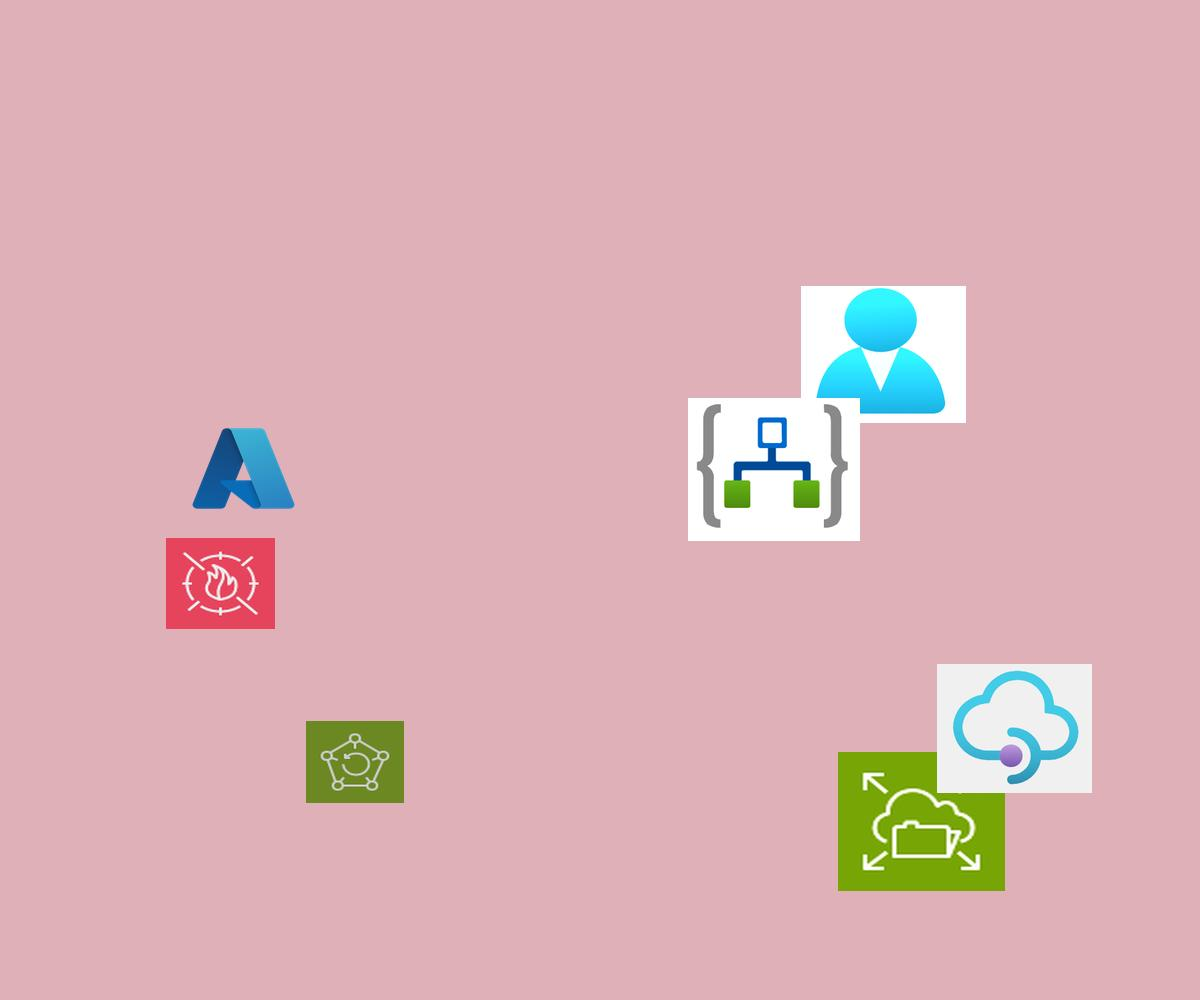AWS-Backup: (306, 721, 404, 803)
AWS-EFS: (838, 752, 1005, 891)
AWS-WAF: (166, 538, 275, 629)
Azure_api_gateway: (937, 664, 1092, 793)
Azure_integration-204-Logic-Apps: (688, 398, 860, 541)
Azure_services: (188, 422, 299, 515)
Azure_users: (801, 286, 966, 423)
